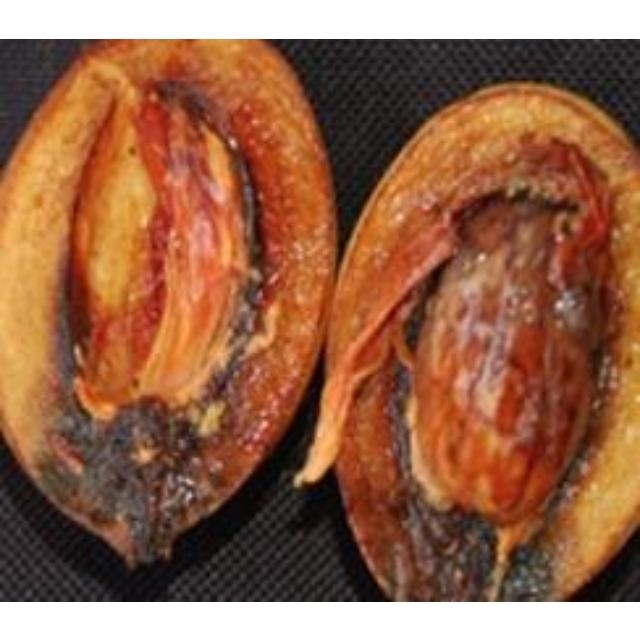damaged: (294, 83, 637, 599), (0, 38, 336, 560)
